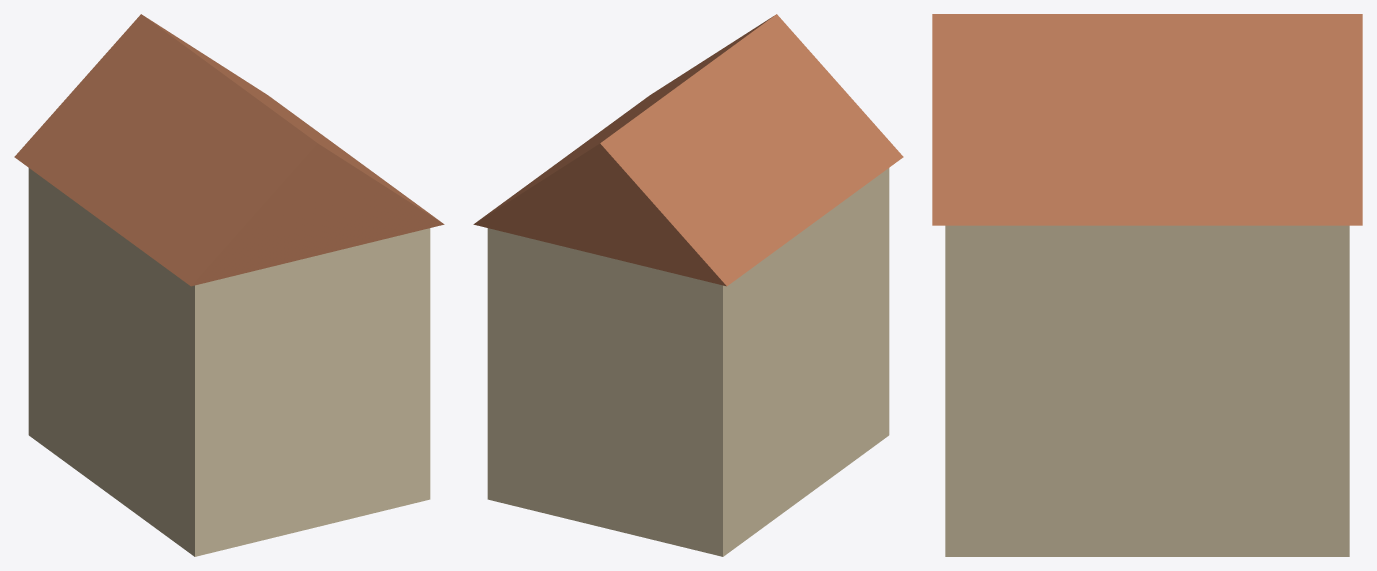
The model's file is block_tall_house.glb.
3 renders of one model, left to right at view 1: azimuth 30°, elevation 25°; view 2: azimuth 150°, elevation 25°; view 3: azimuth 270°, elevation 25°, orthographic. The views are drawn at different scales.
Parts seen in each view (by area): view 1: Body.001, Roof.001; view 2: Body.001, Roof.001; view 3: Body.001, Roof.001.
Boxes of the visible parts, <box> form: Body.001: <box>28,168,430,556</box>; Roof.001: <box>14,14,444,286</box>; Body.001: <box>487,168,889,556</box>; Roof.001: <box>473,14,903,286</box>; Body.001: <box>945,225,1349,556</box>; Roof.001: <box>932,14,1362,225</box>.
Bounding box in the file's own units: 9.7 × 14.2 × 11.7.
